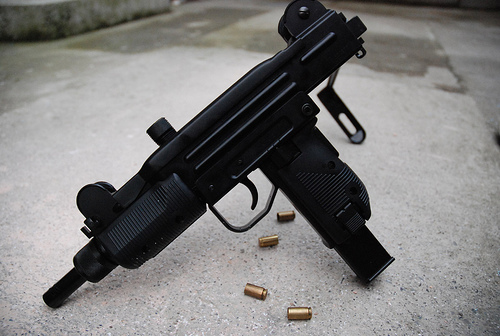rifle: (34, 3, 405, 327)
